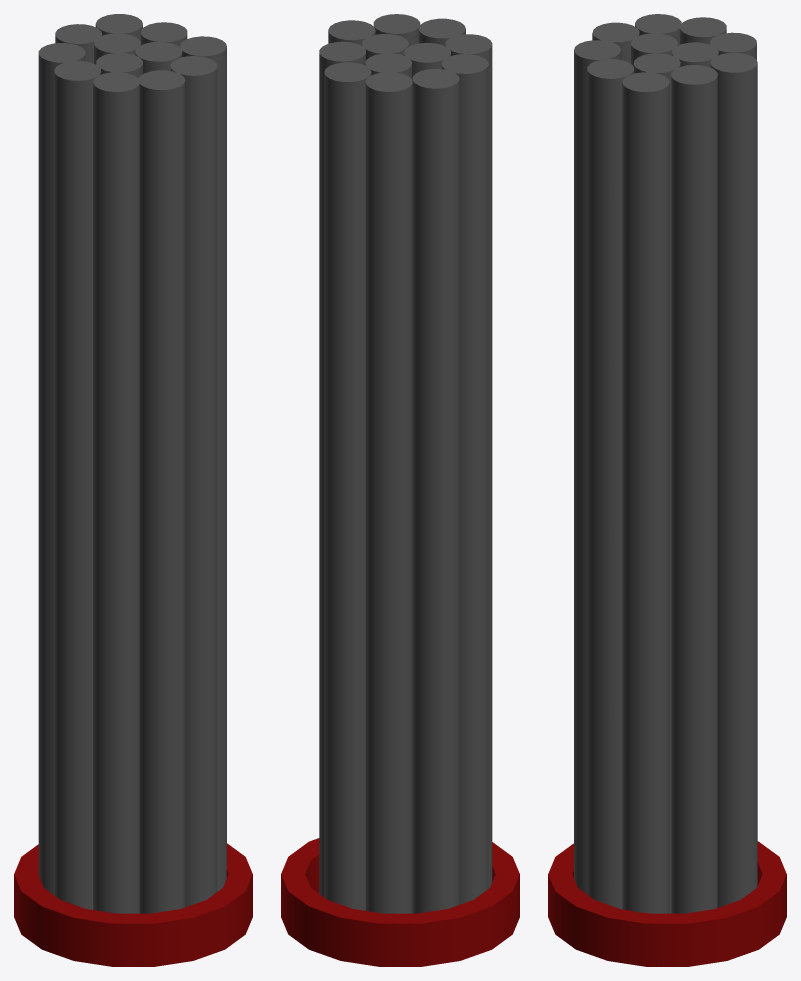
File: FactoryWires.fbx
3 renders of one model, left to right at view 1: azimuth 30°, elevation 25°; view 2: azimuth 150°, elevation 25°; view 3: azimuth 270°, elevation 25°, orthographic.
Visible parts, largest first — view 1: Cylinder013; view 2: Cylinder013; view 3: Cylinder013.
Part boxes in pixels (left/top/right/bottom): Cylinder013: left=14, top=14, right=252, bottom=966; Cylinder013: left=281, top=14, right=519, bottom=966; Cylinder013: left=548, top=14, right=786, bottom=966.
Size of the model in its own units: 49.31 by 200 by 50.07.
